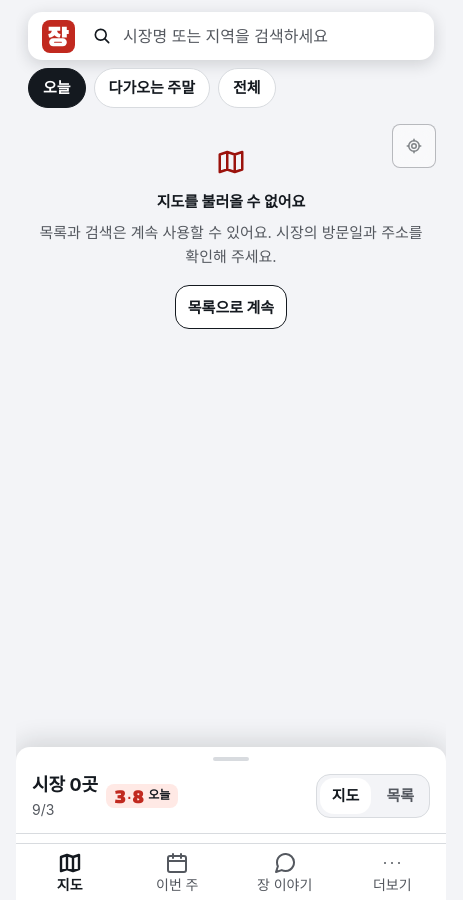
MarketExplorer › shows unknown schedules only when the all-markets filter is selected
Click the button "전체" at (247,88), box [218,68,276,108]
(page scrolled)
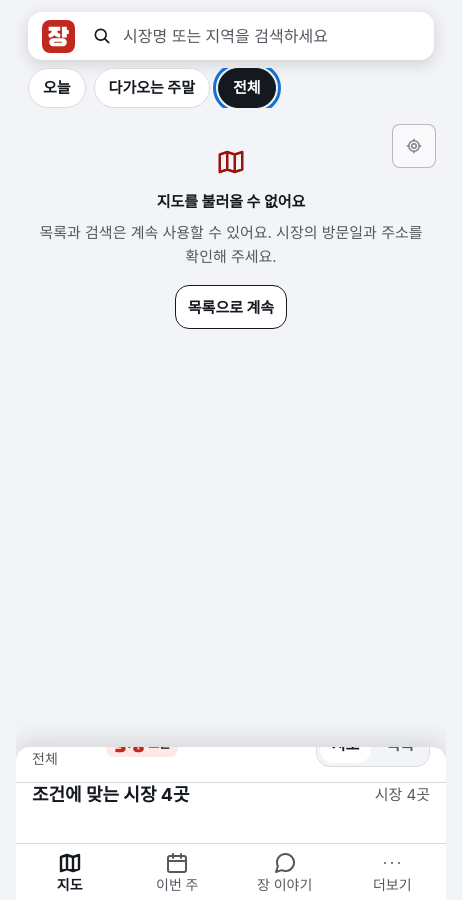
Now the heading "조건에 맞는 시장 4곳" is shown, box [32,782,190,807]
